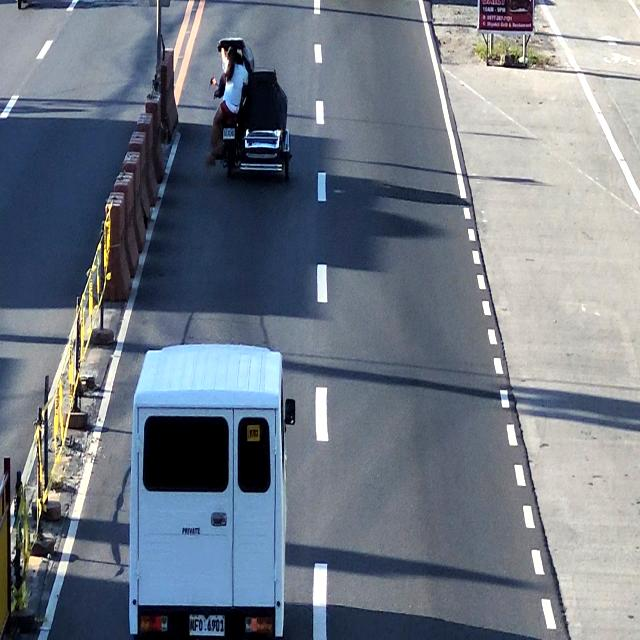Car: (132, 344, 291, 640)
License-Plate: (188, 613, 227, 640), (222, 128, 238, 140)
Tricycle: (210, 39, 293, 184)
